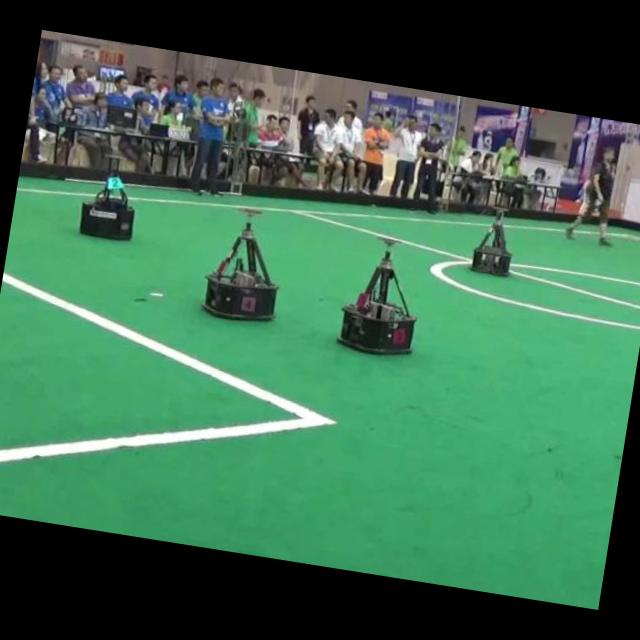robot: (338, 239, 415, 354), (203, 209, 278, 320), (80, 154, 135, 240), (471, 207, 511, 276)
